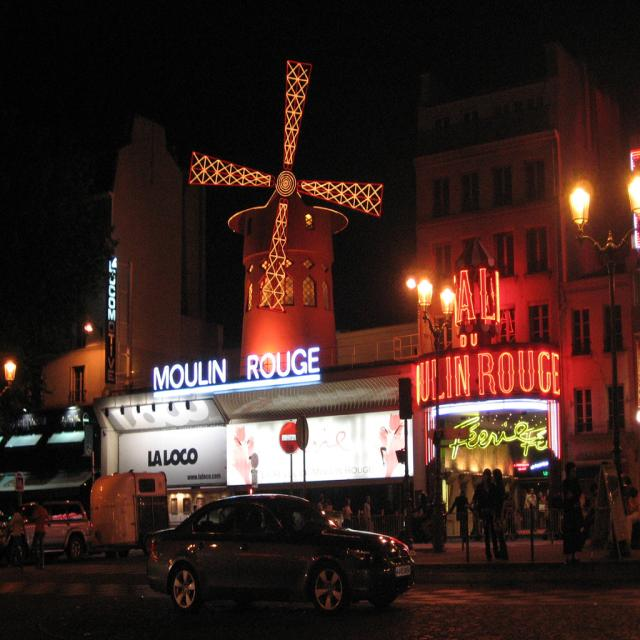Car: (133, 466, 451, 640)
